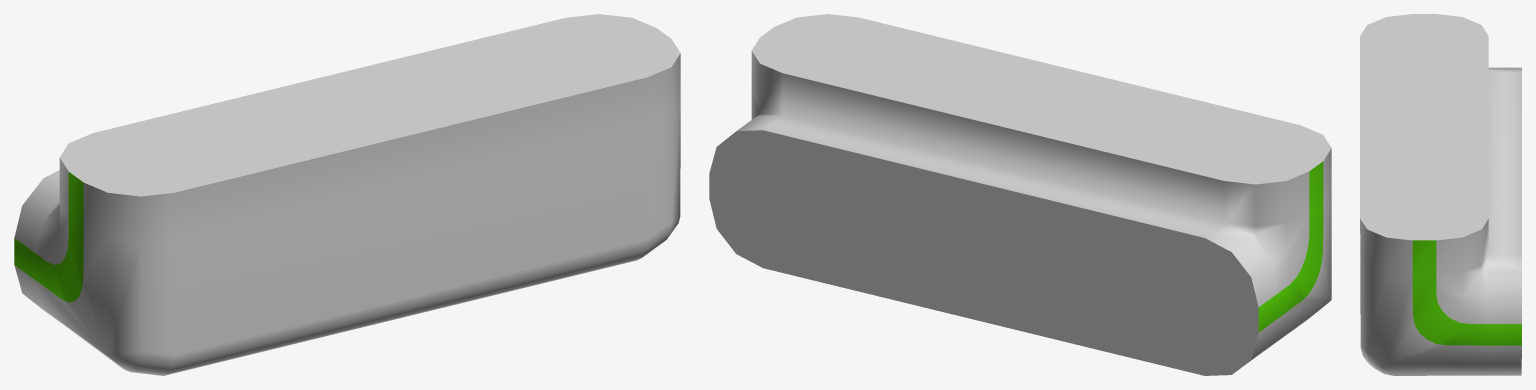
The model's file is Turn_Sharp.fbx.
3 renders of one model, left to right at view 1: azimuth 30°, elevation 25°; view 2: azimuth 150°, elevation 25°; view 3: azimuth 270°, elevation 25°, orthographic. The views are drawn at different scales.
Parts seen in each view (by area): view 1: Turn_Sharp; view 2: Turn_Sharp; view 3: Turn_Sharp.
Boxes of the visible parts, x1,y1,x2,y2 form: Turn_Sharp: [14, 14, 680, 375]; Turn_Sharp: [709, 14, 1331, 375]; Turn_Sharp: [1360, 14, 1521, 375].
Size of the model in its own units: 12.28 by 3.86 by 3.71.
